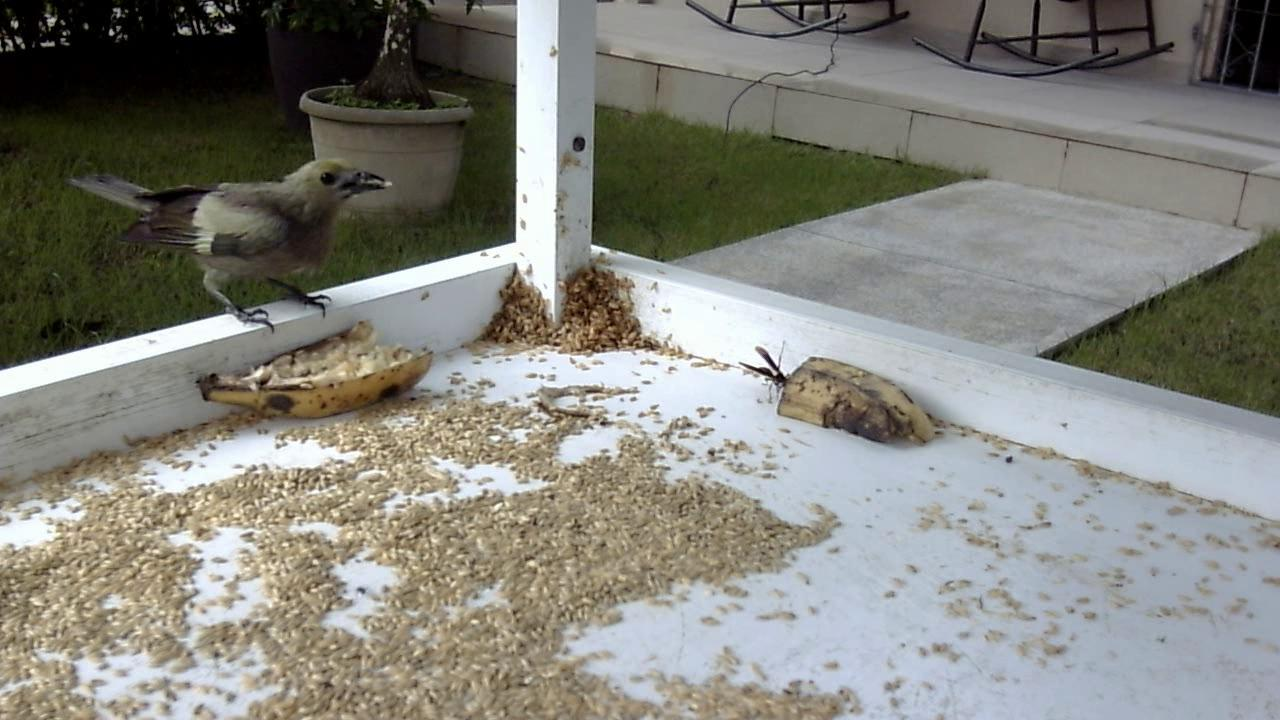sanhaco_do_coqueiro: (59, 146, 392, 343)
